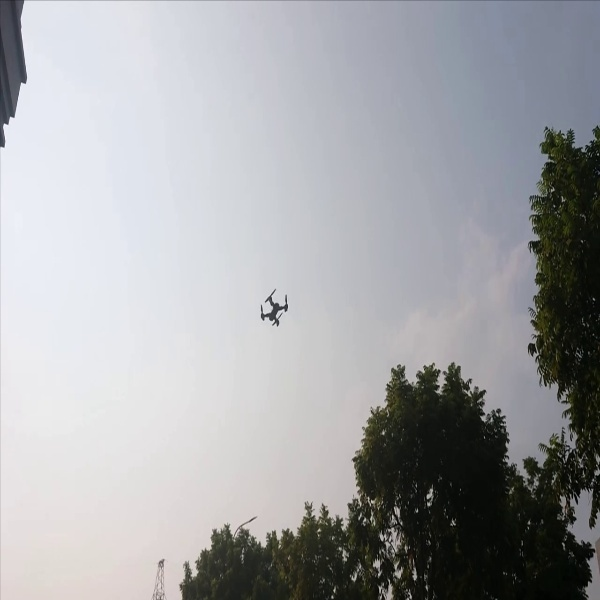drone: (246, 278, 292, 333)
